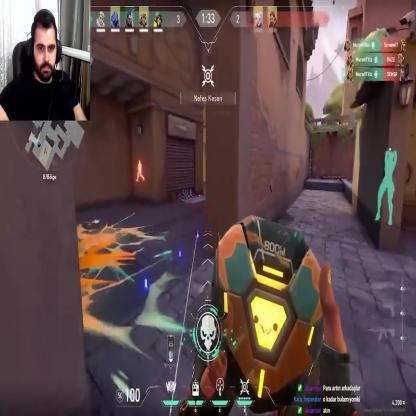enemy: (135, 161, 144, 183)
enemy_head: (138, 160, 140, 164)
